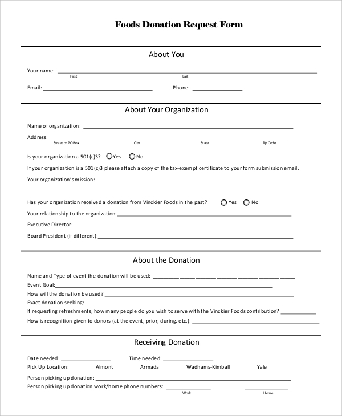checkbox: (219, 198, 229, 207), (242, 197, 251, 206), (128, 152, 136, 162), (105, 152, 114, 160)
textline: (56, 63, 321, 75), (48, 131, 293, 141), (72, 219, 294, 229), (96, 230, 296, 240), (54, 280, 275, 289), (104, 289, 296, 299), (181, 63, 320, 76), (95, 373, 292, 382), (85, 299, 296, 307), (116, 209, 293, 218), (152, 271, 298, 281), (57, 64, 181, 75), (42, 81, 155, 92), (191, 317, 320, 325), (48, 133, 129, 142), (130, 133, 199, 142), (191, 81, 244, 92), (199, 133, 260, 142), (243, 382, 293, 391), (162, 354, 216, 362), (60, 354, 112, 362), (164, 383, 217, 390), (279, 307, 317, 316), (262, 132, 293, 142)
